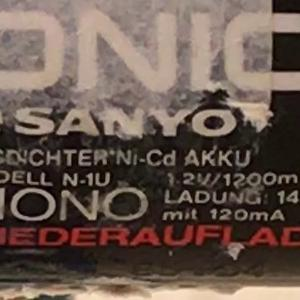keyword: (100, 141, 185, 167)
